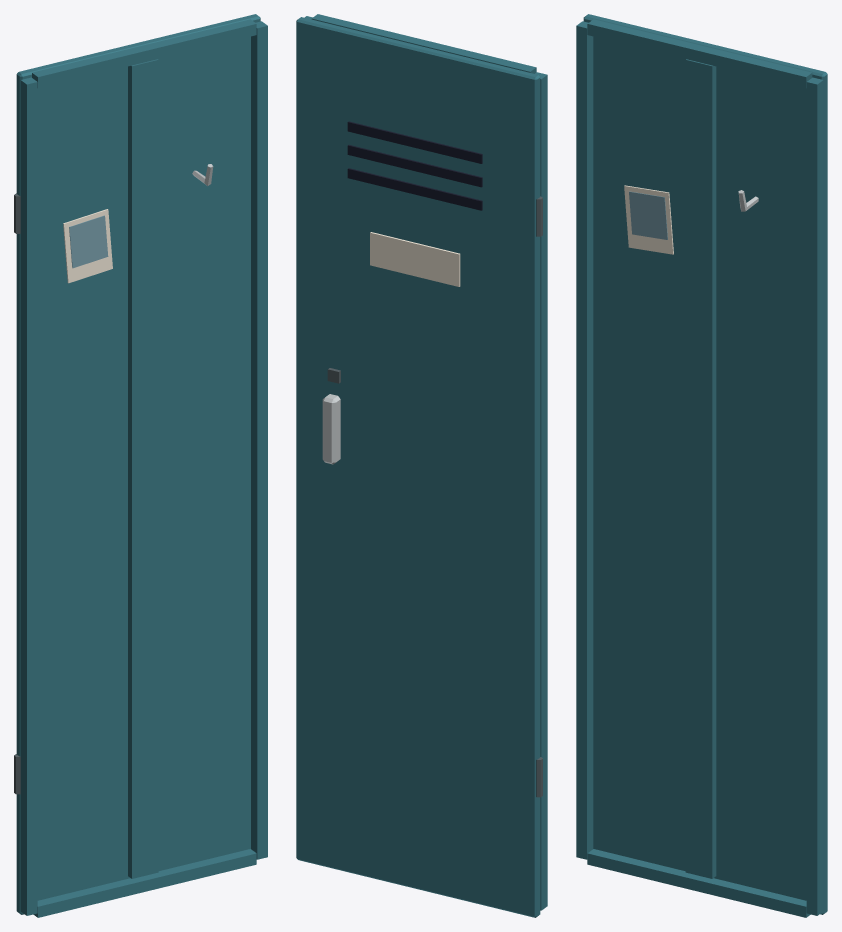
The model's file is sm_env_depot_locker_door_open.glb.
3 views of the same model, side by side, from view 1: azimuth 30°, elevation 25°; view 2: azimuth 150°, elevation 25°; view 3: azimuth 330°, elevation 25° (orthographic).
Visible parts, largest first — view 1: Door, Stiffener, InnerRim, InnerRim.001, InnerRim.003, InnerRim.002, PhotoImage, Photo; view 2: Door, InnerRim, NameCard, InnerRim.003, Vent, Vent.002, Vent.001, Handle; view 3: Door, Stiffener, InnerRim.001, InnerRim, InnerRim.003, InnerRim.002, PhotoImage, Photo.
Part boxes in pixels (<box>): Door: <box>16,14,260,914</box>; Stiffener: <box>128,59,158,878</box>; InnerRim: <box>20,77,37,915</box>; InnerRim.001: <box>251,21,267,859</box>; InnerRim.003: <box>32,19,256,88</box>; InnerRim.002: <box>33,849,256,917</box>; PhotoImage: <box>69,215,108,268</box>; Photo: <box>63,209,112,283</box>; Door: <box>296,17,540,917</box>; InnerRim: <box>535,72,547,910</box>; NameCard: <box>370,232,460,286</box>; InnerRim.003: <box>311,14,536,73</box>; Vent: <box>347,121,482,163</box>; Vent.002: <box>347,168,482,210</box>; Vent.001: <box>347,145,482,187</box>; Handle: <box>322,394,340,464</box>; Door: <box>583,14,827,914</box>; Stiffener: <box>685,59,716,878</box>; InnerRim.001: <box>806,77,823,915</box>; InnerRim: <box>576,21,593,859</box>; InnerRim.003: <box>587,19,812,88</box>; InnerRim.002: <box>587,849,810,917</box>; PhotoImage: <box>629,191,667,239</box>; Photo: <box>624,185,673,254</box>.
Bounding box in the file's own units: 0.5469 × 1.8 × 0.1155.
